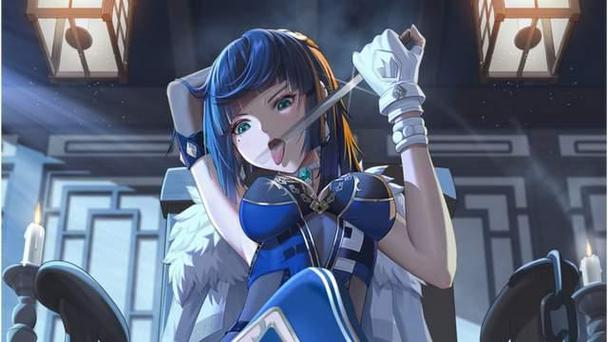夜兰: (154, 23, 459, 342)
